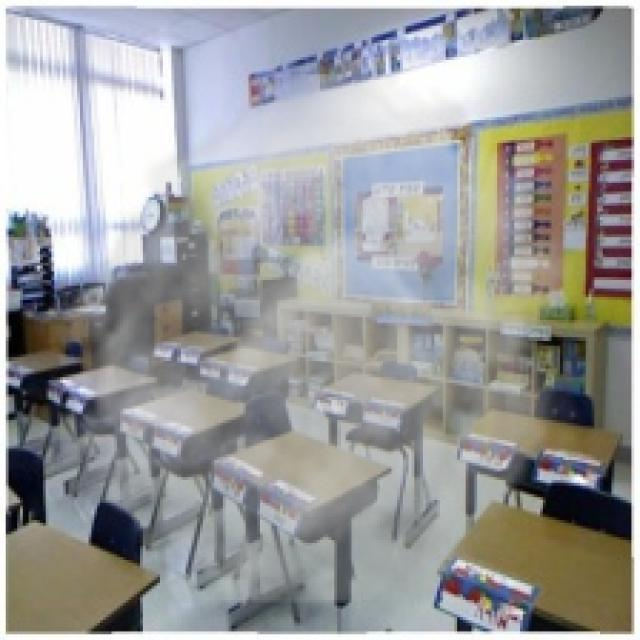Smoke: (39, 74, 594, 603)
